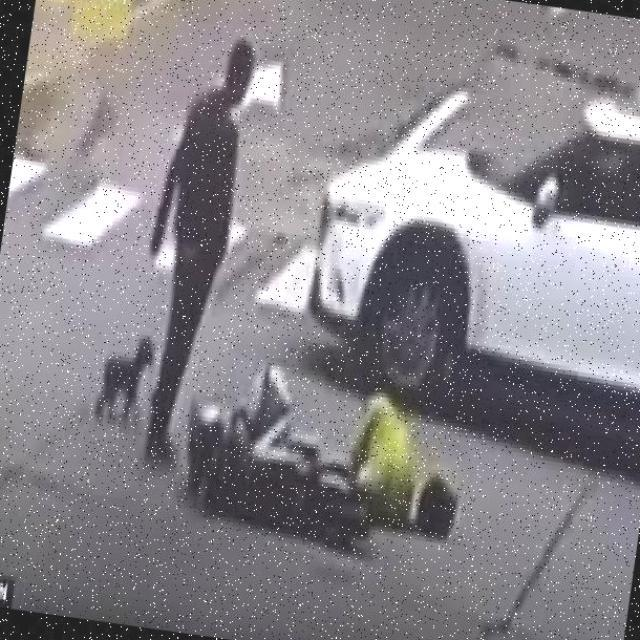accident: (152, 324, 436, 588)
